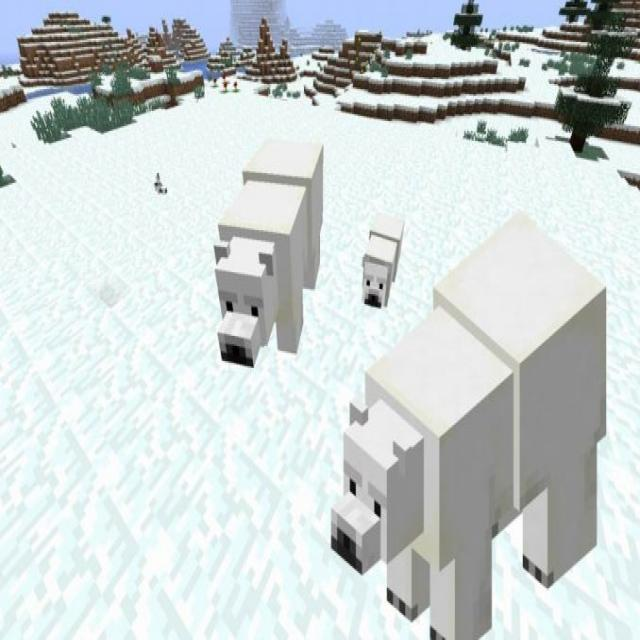Polar Bear: (330, 207, 607, 638), (212, 136, 324, 370), (358, 212, 407, 310)
